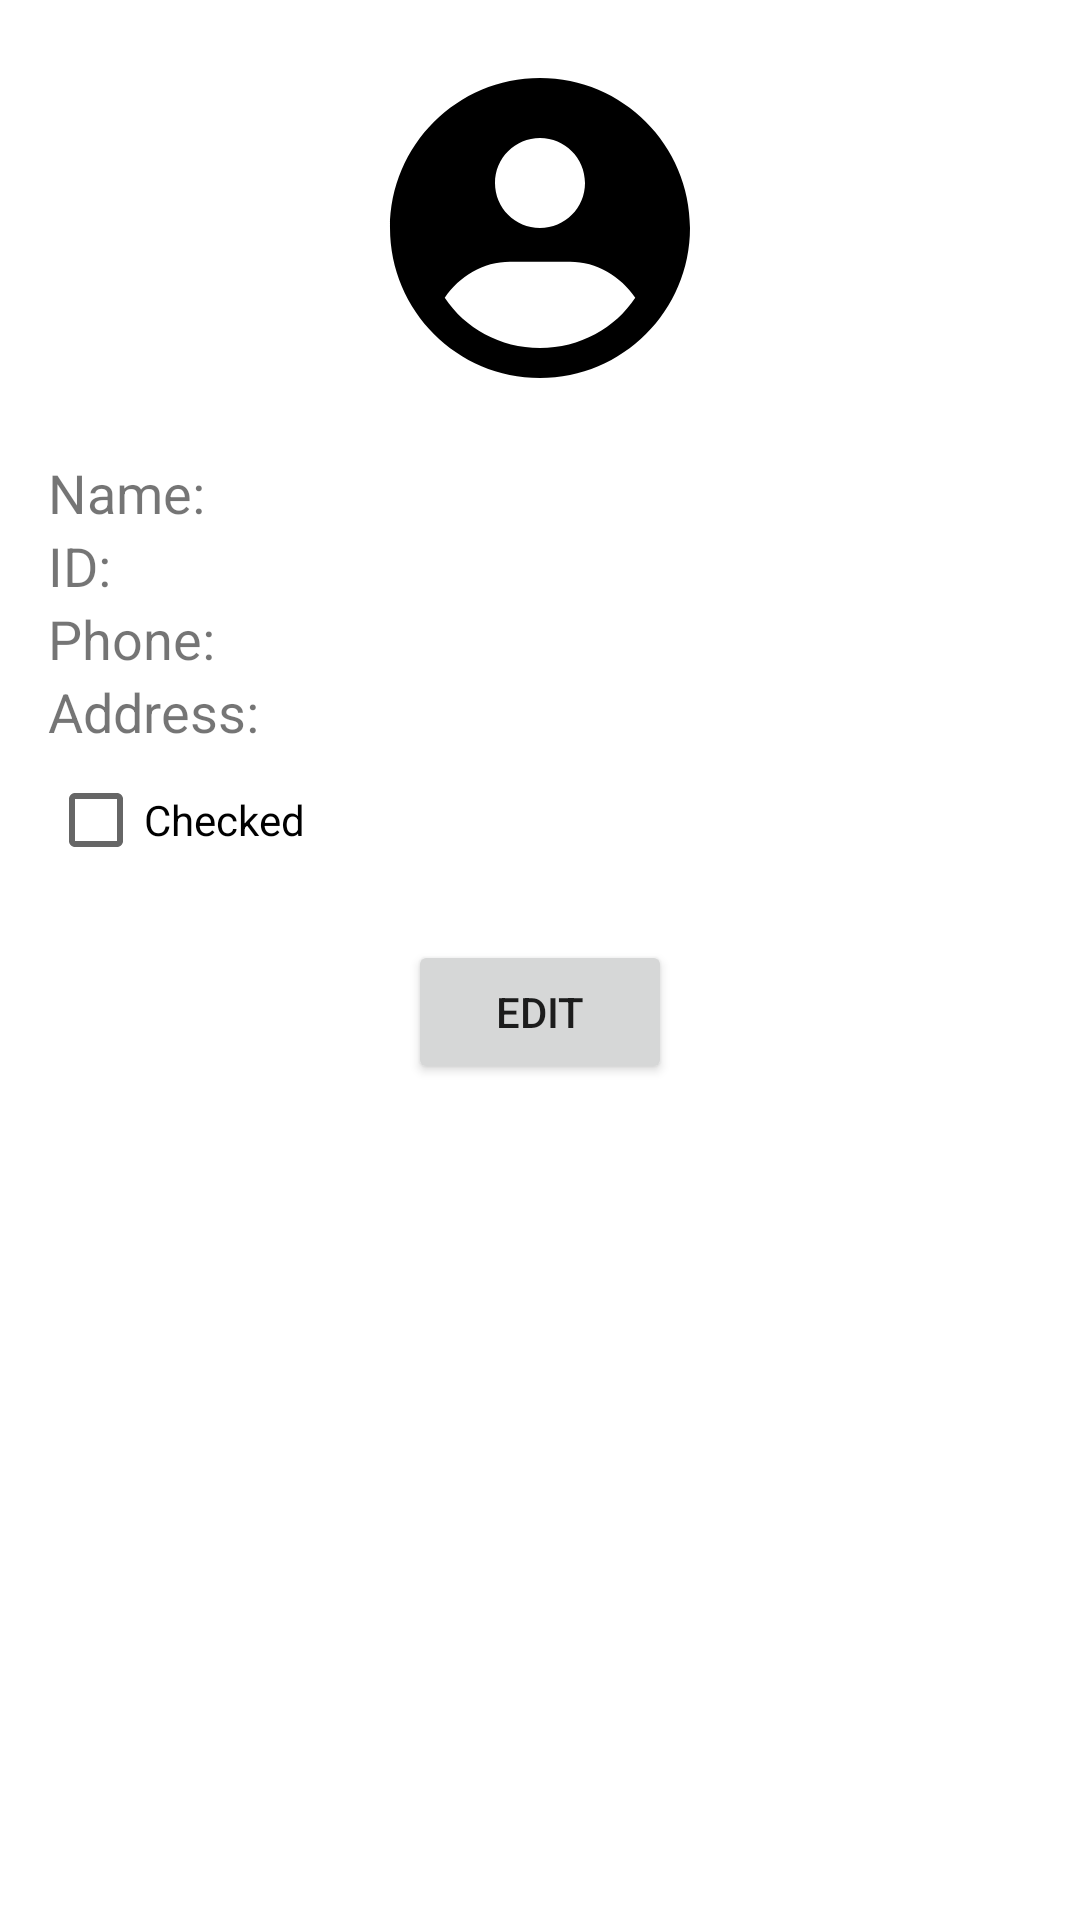

Named icons in this screenshot (1080*1920) and their bounding boxes, BBox(x1, y1, x2, y2):
profile: BBox(390, 78, 690, 378)
